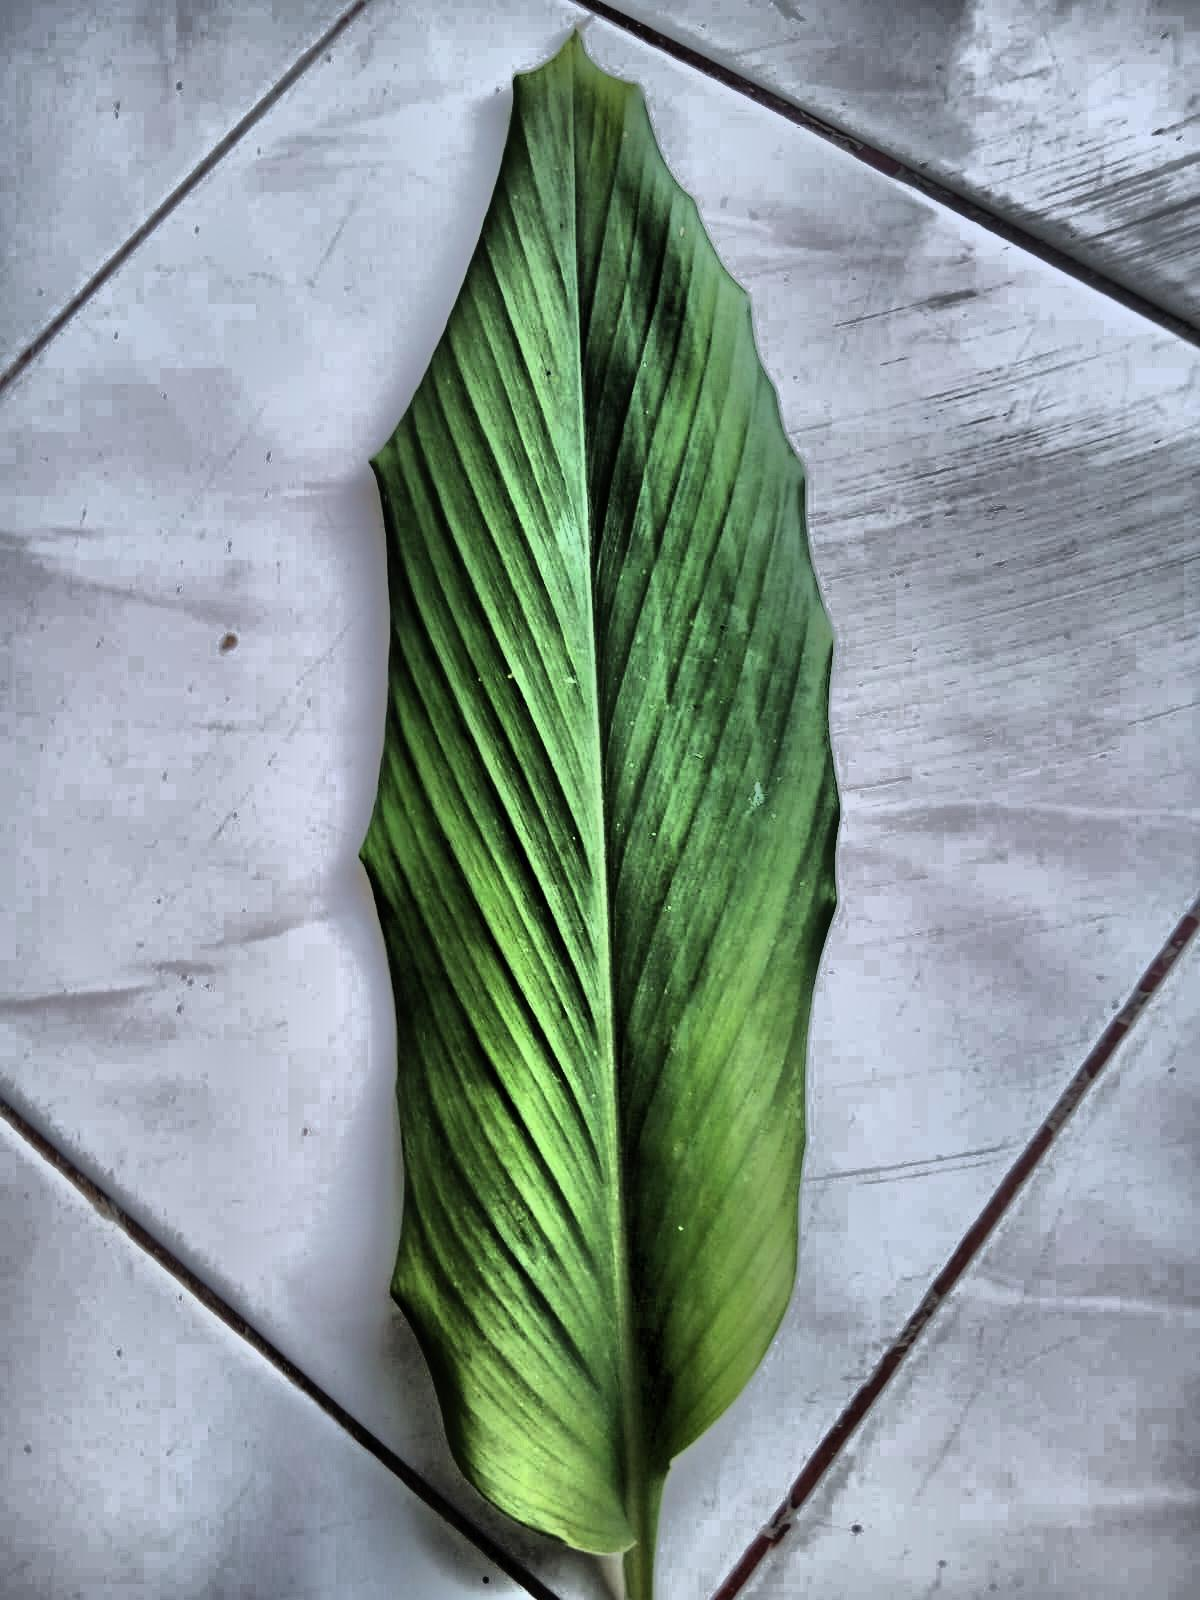daun kunyit: (361, 35, 838, 1599)
